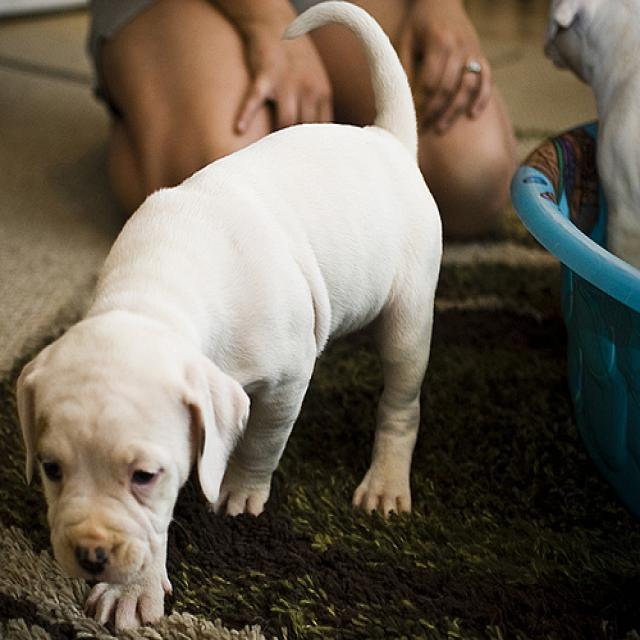dog-american_bulldog: (3, 1, 447, 637)
